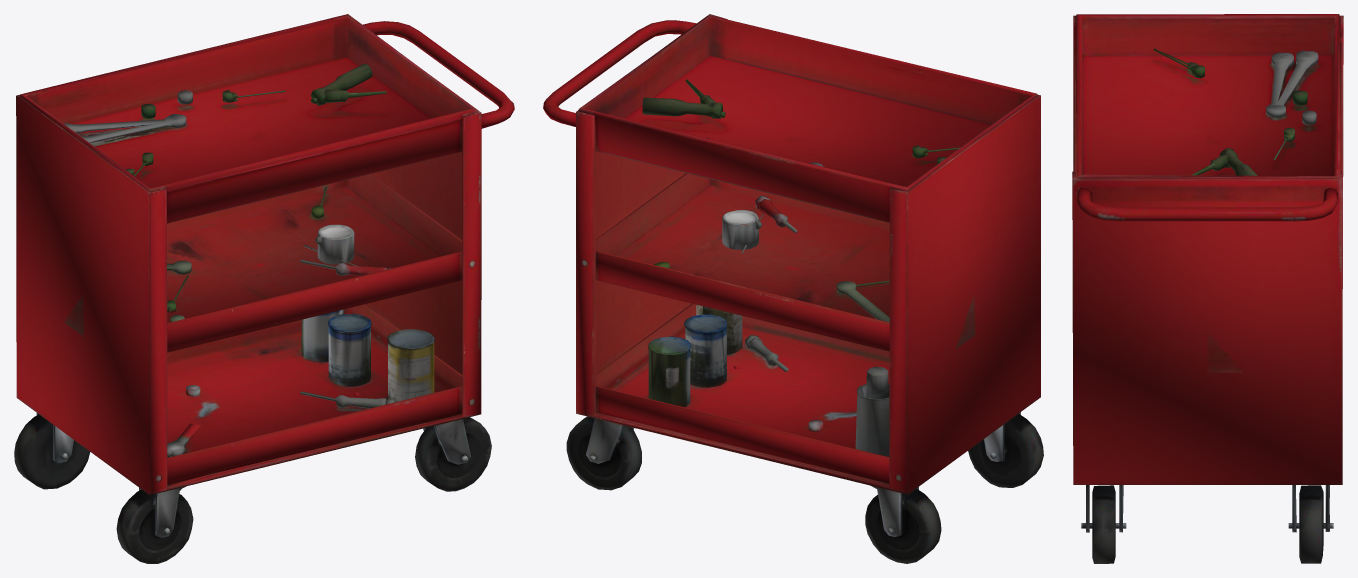
Rendered from asset_pack_item_glb-vd74sdj4ynbc52j4f7q2vf80hs8at9jd-1-ks75ntgtawfasbh139bw1r9fd98avrmn.glb.
3 renders of one model, left to right at view 1: azimuth 30°, elevation 25°; view 2: azimuth 150°, elevation 25°; view 3: azimuth 270°, elevation 25°, orthographic.
Parts seen in each view (by area): view 1: Low rolling tool cart; view 2: Low rolling tool cart; view 3: Low rolling tool cart.
Part boxes in pixels (box(x1,y1,x2,y2)): Low rolling tool cart: box(14, 14, 514, 563); Low rolling tool cart: box(543, 14, 1043, 563); Low rolling tool cart: box(1072, 14, 1343, 563).
Size of the model in its own units: 0.998 by 0.9316 by 0.5879.
1 material, 1 textured.
